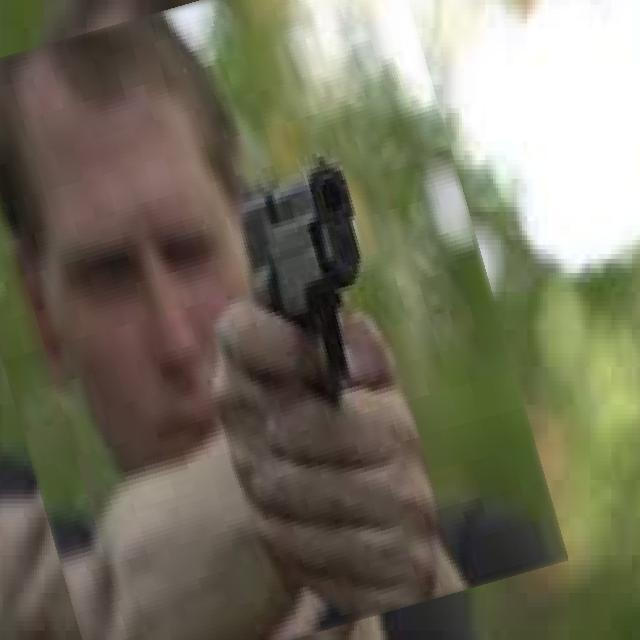Gun_Holder: (180, 188, 444, 567)
Person: (6, 24, 420, 632)
